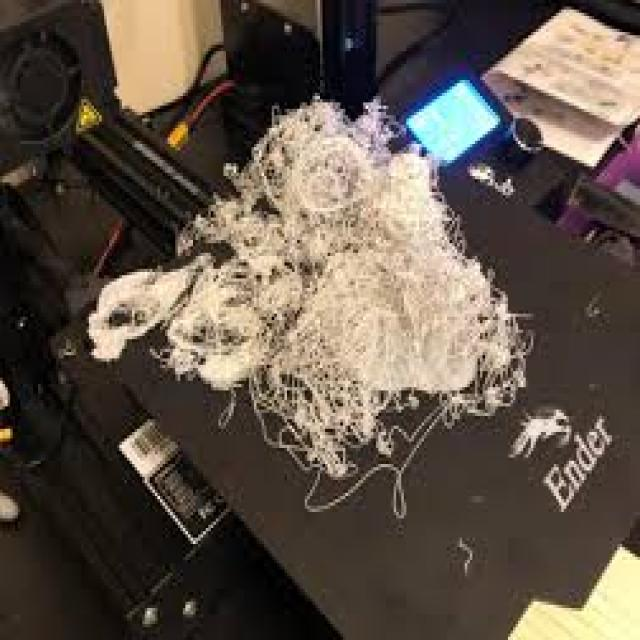spaghetti: (88, 93, 530, 505)
